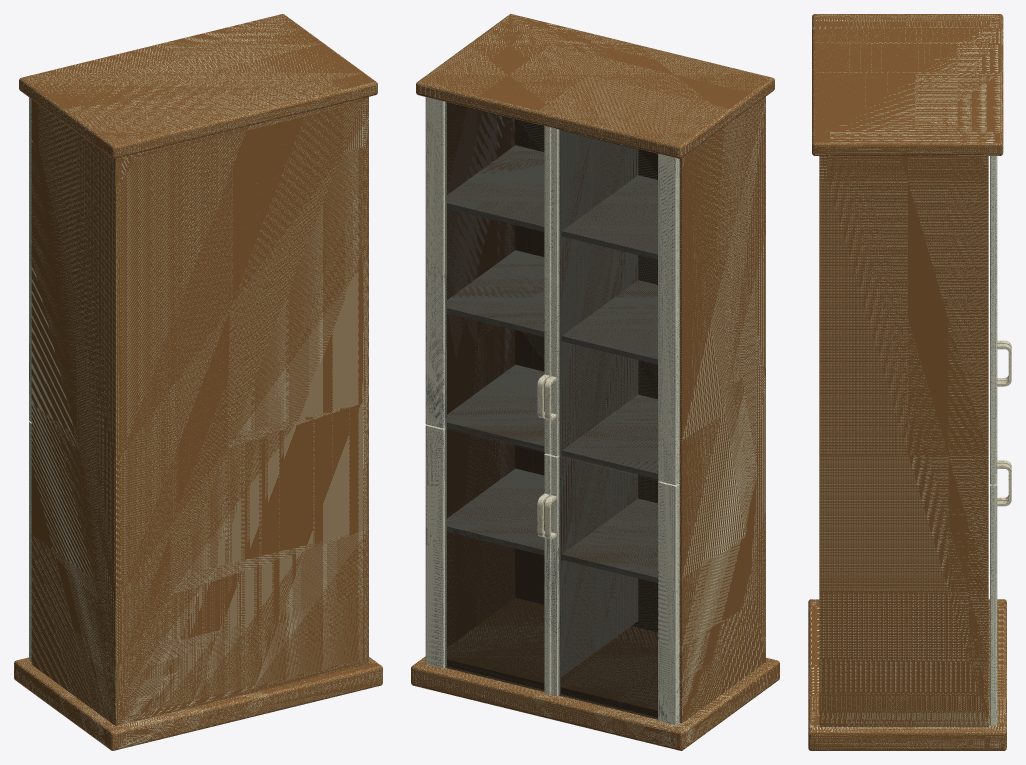
3 renders of one model, left to right at view 1: azimuth 30°, elevation 25°; view 2: azimuth 150°, elevation 25°; view 3: azimuth 270°, elevation 25°, orthographic.
Parts seen in each view (by area): view 1: mesh3_mesh3-geometry, mesh2_mesh2-geometry, mesh1_mesh1-geometry, mesh14_mesh14-geometry, mesh20_mesh20-geometry; view 2: mesh3_mesh3-geometry, mesh10_mesh10-geometry, mesh16_mesh16-geometry, mesh2_mesh2-geometry, mesh23_mesh23-geometry, mesh18_mesh18-geometry, mesh5_mesh5-geometry, mesh21_mesh21-geometry, mesh22_mesh22-geometry, mesh1_mesh1-geometry, mesh7_mesh7-geometry, mesh24_mesh24-geometry (+8 smaller); view 3: mesh3_mesh3-geometry, mesh2_mesh2-geometry, mesh1_mesh1-geometry, mesh11_mesh11-geometry, mesh4_mesh4-geometry.
Part boxes in pixels (x1,y1,x2,y2): mesh3_mesh3-geometry: (31, 97, 368, 725); mesh2_mesh2-geometry: (19, 14, 377, 158); mesh1_mesh1-geometry: (14, 657, 382, 750); mesh14_mesh14-geometry: (29, 97, 31, 422); mesh20_mesh20-geometry: (29, 421, 31, 662); mesh3_mesh3-geometry: (447, 97, 765, 723); mesh10_mesh10-geometry: (445, 102, 544, 451); mesh16_mesh16-geometry: (559, 130, 657, 479); mesh2_mesh2-geometry: (416, 14, 774, 158); mesh23_mesh23-geometry: (560, 131, 637, 676); mesh18_mesh18-geometry: (559, 456, 658, 719); mesh5_mesh5-geometry: (444, 428, 544, 691); mesh21_mesh21-geometry: (447, 145, 657, 259); mesh22_mesh22-geometry: (447, 250, 657, 364); mesh1_mesh1-geometry: (411, 656, 779, 750); mesh7_mesh7-geometry: (447, 365, 657, 478); mesh24_mesh24-geometry: (447, 469, 657, 582); mesh3_mesh3-geometry: (819, 156, 988, 727); mesh2_mesh2-geometry: (812, 14, 1003, 155); mesh1_mesh1-geometry: (808, 599, 1006, 750); mesh11_mesh11-geometry: (990, 156, 997, 484); mesh4_mesh4-geometry: (990, 484, 997, 725).
Size of the model in its own units: 0.412 by 0.8718 by 0.2649.
